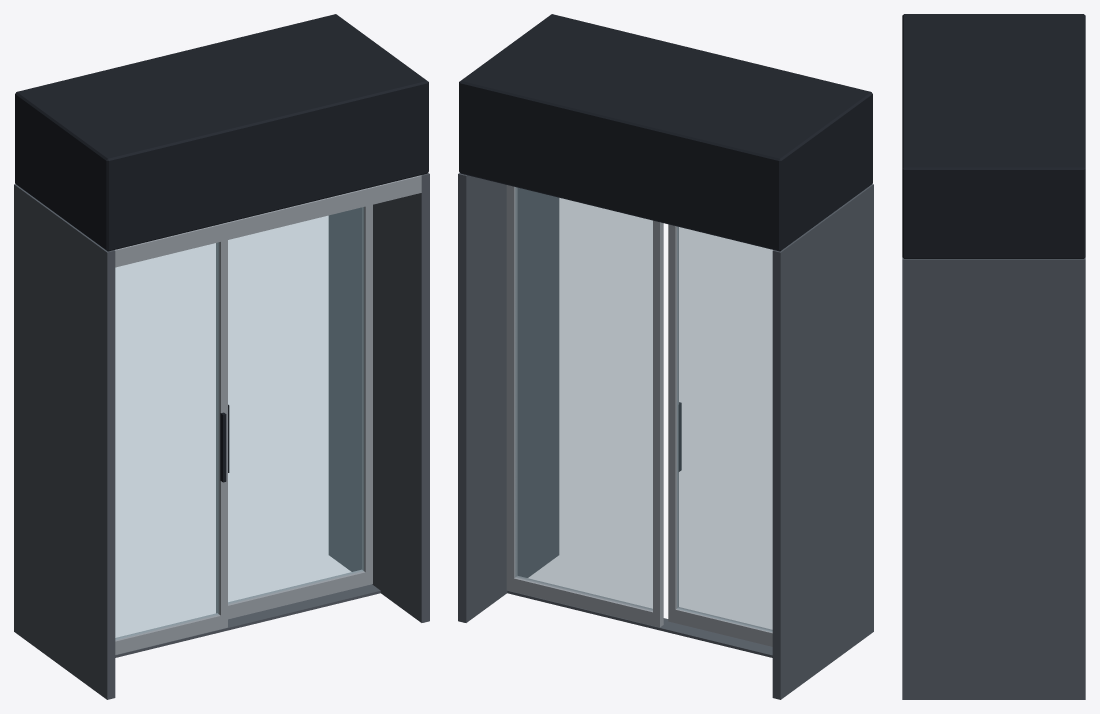
Rendered from door_slide.glb.
The picture shows the model from 3 angles, left to right: view 1: azimuth 30°, elevation 25°; view 2: azimuth 150°, elevation 25°; view 3: azimuth 270°, elevation 25°; orthographic projection.
Parts seen in each view (by area): view 1: door_slide, leafR, leafL; view 2: door_slide, leafR, leafL; view 3: door_slide.
Boxes of the visible parts, box(x1,y1,x2,y2) form: door_slide: box(14, 14, 429, 699); leafR: box(216, 204, 372, 619); leafL: box(115, 240, 227, 654); door_slide: box(458, 14, 873, 699); leafR: box(506, 185, 663, 627); leafL: box(668, 224, 772, 646); door_slide: box(902, 14, 1085, 699).
Size of the model in its own units: 2 by 3.2 by 1.
